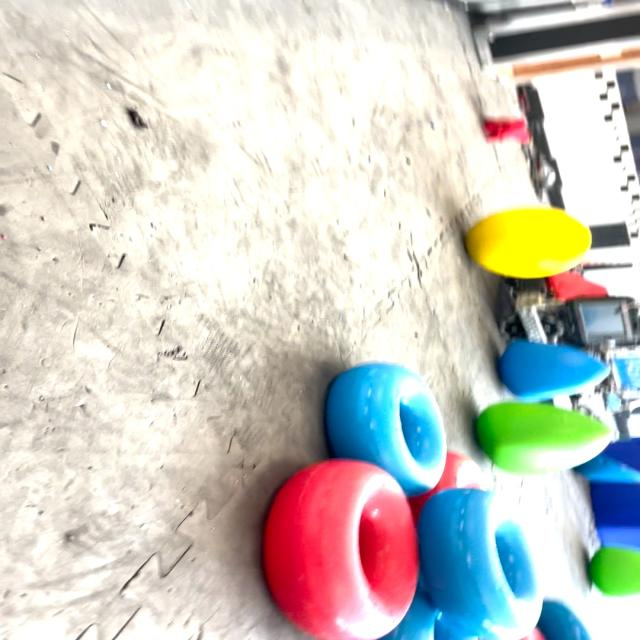Blue-Ring: (418, 489, 542, 640), (327, 362, 447, 496)
Red-Ring: (264, 459, 418, 640)
